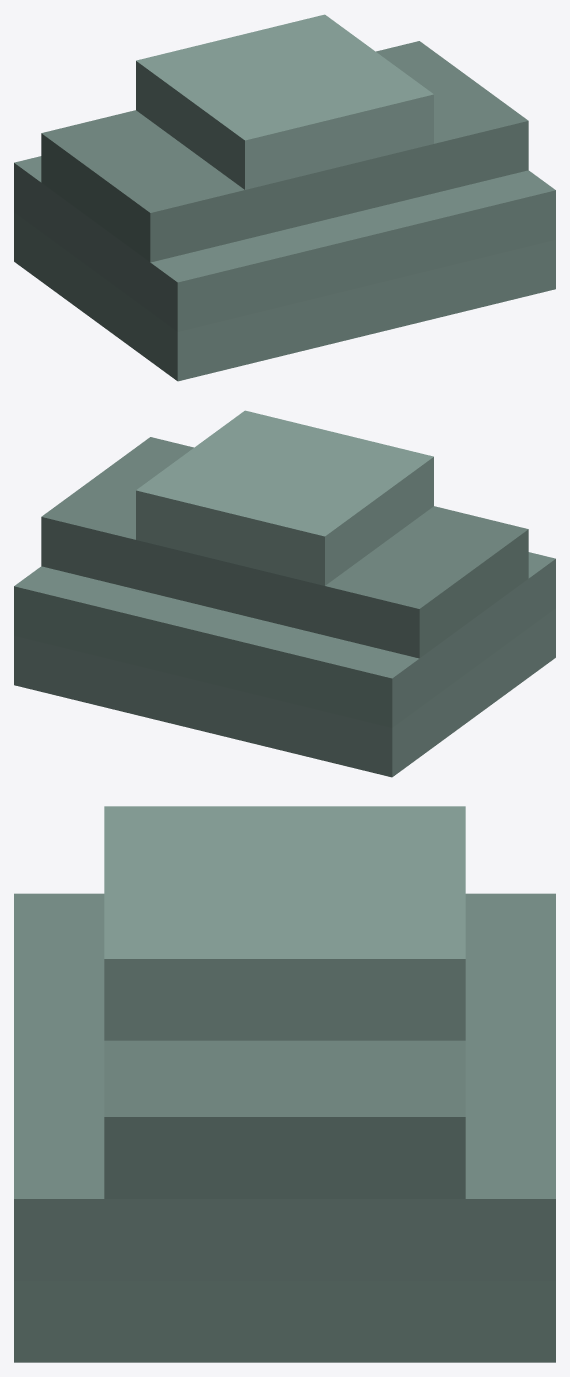
Rendered from mat_adamantite_lod1.glb.
The picture shows the model from 3 angles, top to bottom: view 1: azimuth 30°, elevation 25°; view 2: azimuth 150°, elevation 25°; view 3: azimuth 270°, elevation 25°; orthographic projection. The views are drawn at different scales.
Visible parts, largest first — view 1: mat_adamantite_lod1; view 2: mat_adamantite_lod1; view 3: mat_adamantite_lod1.
Boxes of the visible parts, x1,y1,x2,y2 form: mat_adamantite_lod1: (14, 14, 555, 381); mat_adamantite_lod1: (14, 410, 555, 777); mat_adamantite_lod1: (14, 806, 555, 1362).
Bounding box in the file's own units: 0.192 × 0.096 × 0.144.
